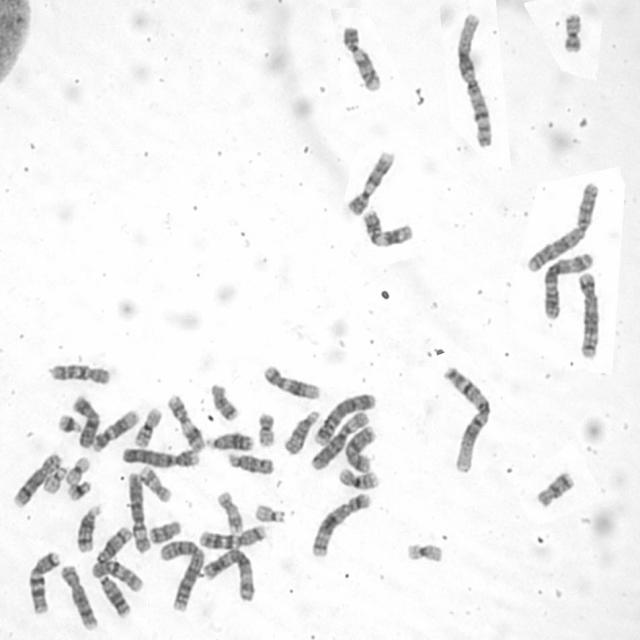A1: (454, 12, 496, 150), (445, 366, 493, 475)
A2: (525, 180, 599, 275), (160, 539, 205, 611)
A3: (542, 252, 594, 320), (202, 549, 256, 603)
B4: (314, 392, 378, 448), (121, 445, 201, 470)
B5: (311, 493, 373, 559), (577, 272, 599, 357)
C10: (90, 560, 144, 594), (48, 362, 112, 386)
C11: (168, 394, 206, 454), (362, 210, 414, 248)
C12: (90, 410, 142, 453), (262, 365, 322, 400)
C6: (308, 410, 369, 473), (126, 471, 152, 555)
C7: (27, 549, 62, 618), (198, 524, 266, 550)
C8: (11, 453, 64, 509), (59, 564, 100, 633)
C9: (348, 150, 394, 217), (339, 24, 382, 94)
D13: (98, 575, 132, 619), (206, 432, 253, 453)
D14: (74, 505, 106, 557), (96, 525, 132, 566)
D15: (281, 410, 321, 457), (226, 453, 276, 478)
E16: (133, 406, 162, 448), (339, 467, 381, 491)
E17: (139, 464, 174, 504), (215, 490, 244, 534)
E18: (535, 471, 576, 509), (209, 381, 239, 422), (146, 520, 183, 546)
F19: (405, 541, 445, 566), (64, 457, 92, 488)
F20: (562, 12, 583, 54), (256, 412, 276, 447)
G21: (68, 479, 94, 502), (56, 413, 82, 435)
G22: (252, 501, 288, 525), (41, 465, 68, 497)
X: (342, 426, 379, 473), (71, 394, 102, 449)
